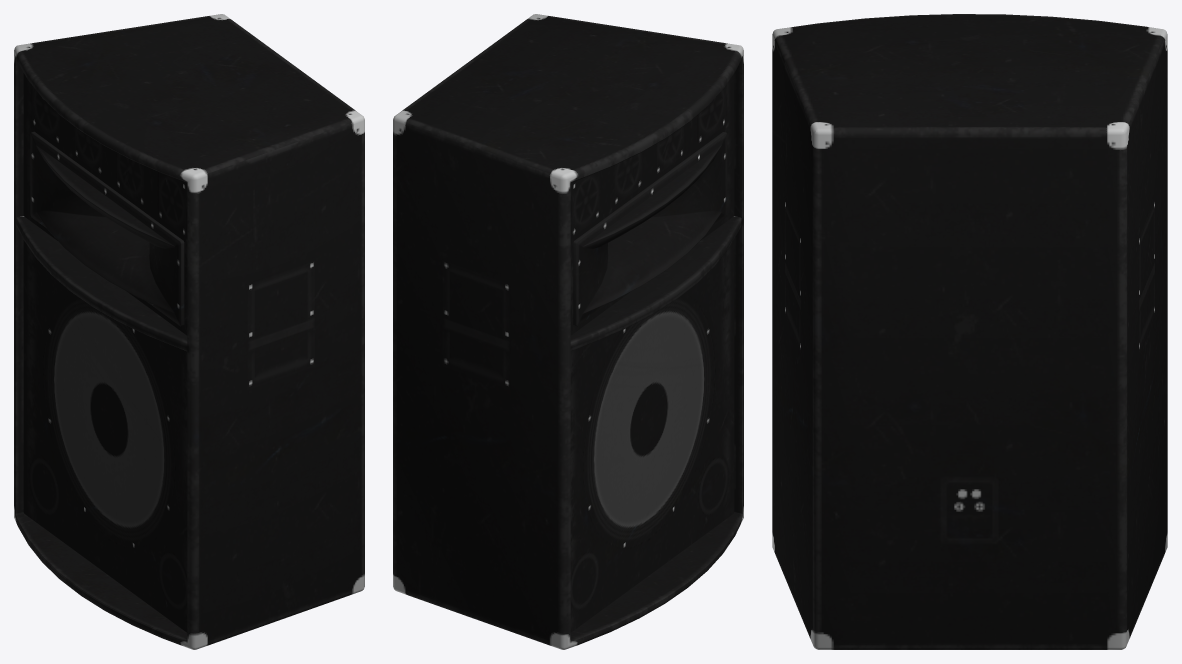
File: Prop_Speaker_Middle.fbx
3 views of the same model, side by side, from view 1: azimuth 30°, elevation 25°; view 2: azimuth 150°, elevation 25°; view 3: azimuth 270°, elevation 25° (orthographic). The views are drawn at different scales.
Parts seen in each view (by area): view 1: Prop_Speaker_Middle; view 2: Prop_Speaker_Middle; view 3: Prop_Speaker_Middle.
Boxes of the visible parts, x1=… form: Prop_Speaker_Middle: x1=14, y1=14, x2=364, y2=649; Prop_Speaker_Middle: x1=393, y1=14, x2=743, y2=649; Prop_Speaker_Middle: x1=772, y1=14, x2=1167, y2=649.
Size of the model in its own units: 22.22 by 46.87 by 31.32.
